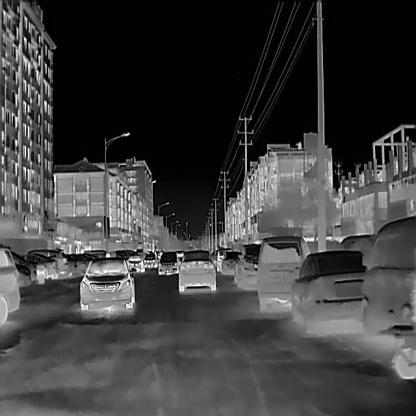car: (361, 215, 415, 345), (291, 249, 368, 330), (257, 236, 310, 311), (79, 256, 134, 309), (0, 245, 21, 324), (178, 250, 215, 292), (233, 244, 262, 284), (26, 248, 67, 276), (21, 252, 57, 277), (220, 251, 242, 275), (158, 251, 179, 275), (127, 254, 144, 272)
